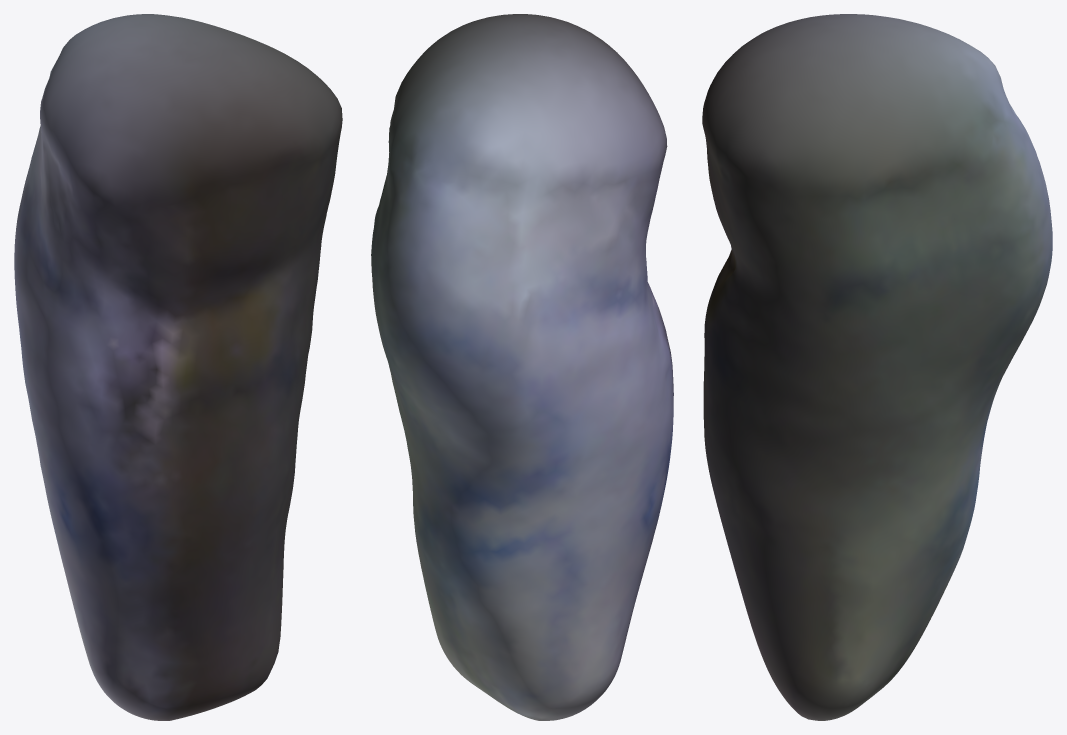
File: sample_leg.dae
3 renders of one model, left to right at view 1: azimuth 30°, elevation 25°; view 2: azimuth 150°, elevation 25°; view 3: azimuth 270°, elevation 25°, orthographic.
Visible parts, largest first — view 1: Model; view 2: Model; view 3: Model.
Boxes of the visible parts, x1=… form: Model: x1=14, y1=14, x2=342, y2=720; Model: x1=371, y1=14, x2=673, y2=720; Model: x1=702, y1=14, x2=1052, y2=720.
Size of the model in its own units: 7.88 by 19.53 by 9.15.
